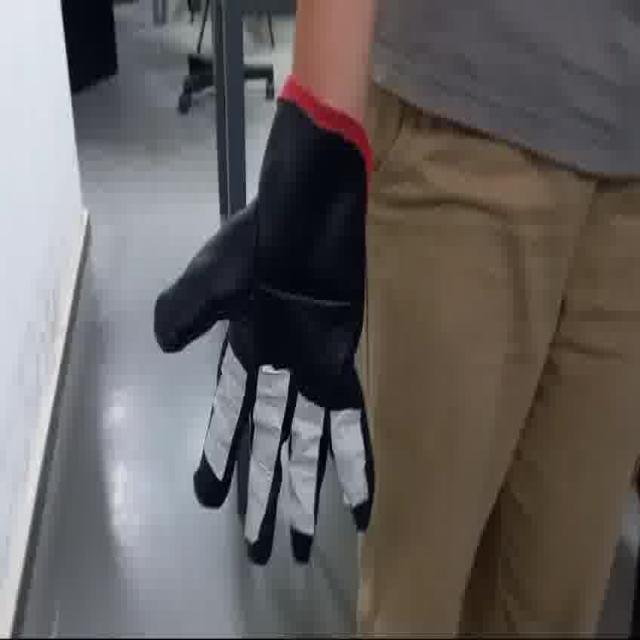Gloves: (153, 77, 376, 567)
